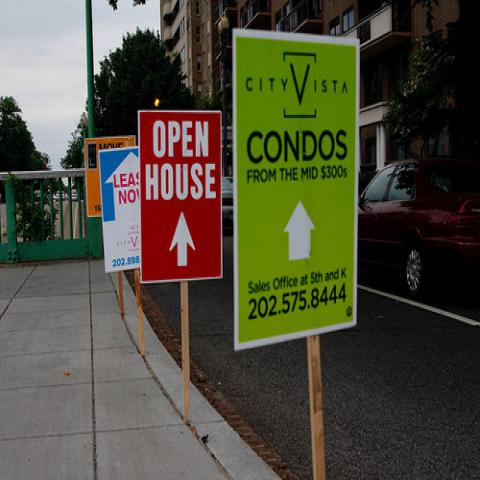car: (356, 158, 480, 300), (222, 177, 234, 219), (70, 188, 78, 202), (55, 191, 65, 202)
